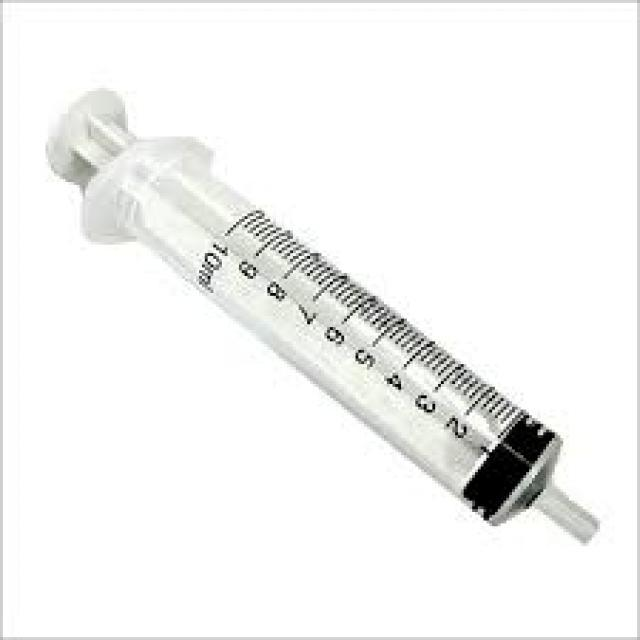syringe: (1, 40, 547, 592)
